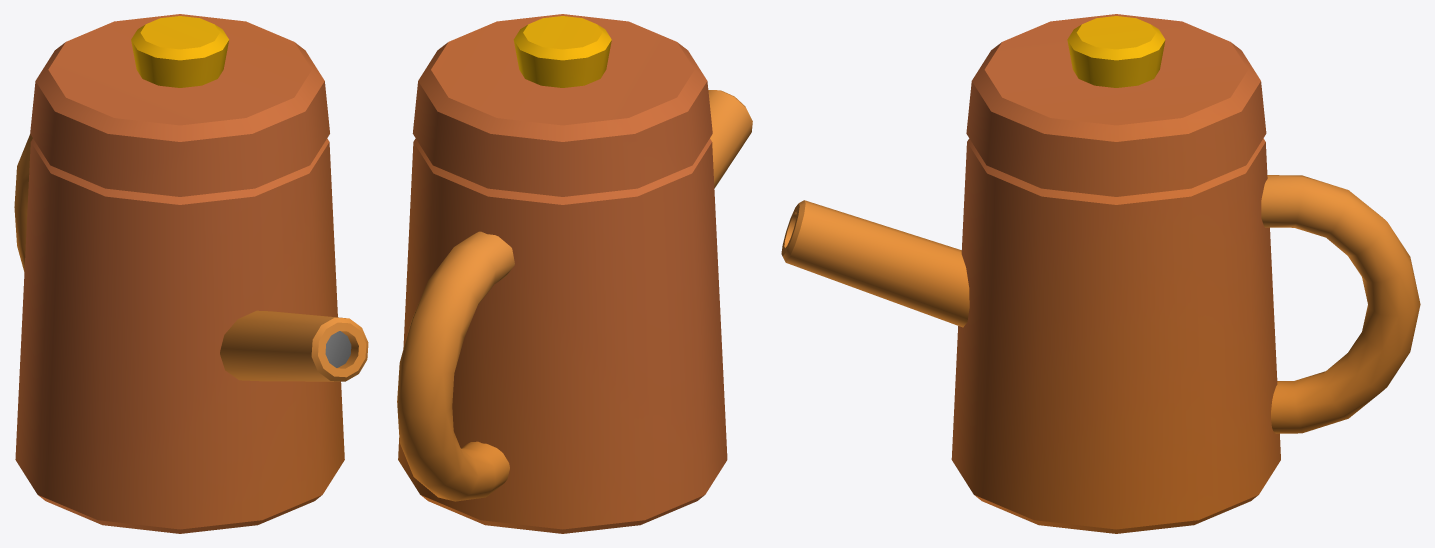
The model's file is Tea Pot_12.fbx.
The picture shows the model from 3 angles, left to right: view 1: azimuth 30°, elevation 25°; view 2: azimuth 150°, elevation 25°; view 3: azimuth 270°, elevation 25°; orthographic projection.
Visible parts, largest first — view 1: Tea Pot_12, Tea Pot_12 Top; view 2: Tea Pot_12, Tea Pot_12 Top; view 3: Tea Pot_12, Tea Pot_12 Top.
Part boxes in pixels (left/top/right/bottom): Tea Pot_12: left=14, top=134, right=368, bottom=533; Tea Pot_12 Top: left=30, top=14, right=329, bottom=196; Tea Pot_12: left=397, top=90, right=752, bottom=533; Tea Pot_12 Top: left=412, top=14, right=712, bottom=196; Tea Pot_12: left=781, top=138, right=1420, bottom=533; Tea Pot_12 Top: left=966, top=14, right=1266, bottom=196.
Size of the model in its own units: 0.1855 by 0.2707 by 0.3599.
